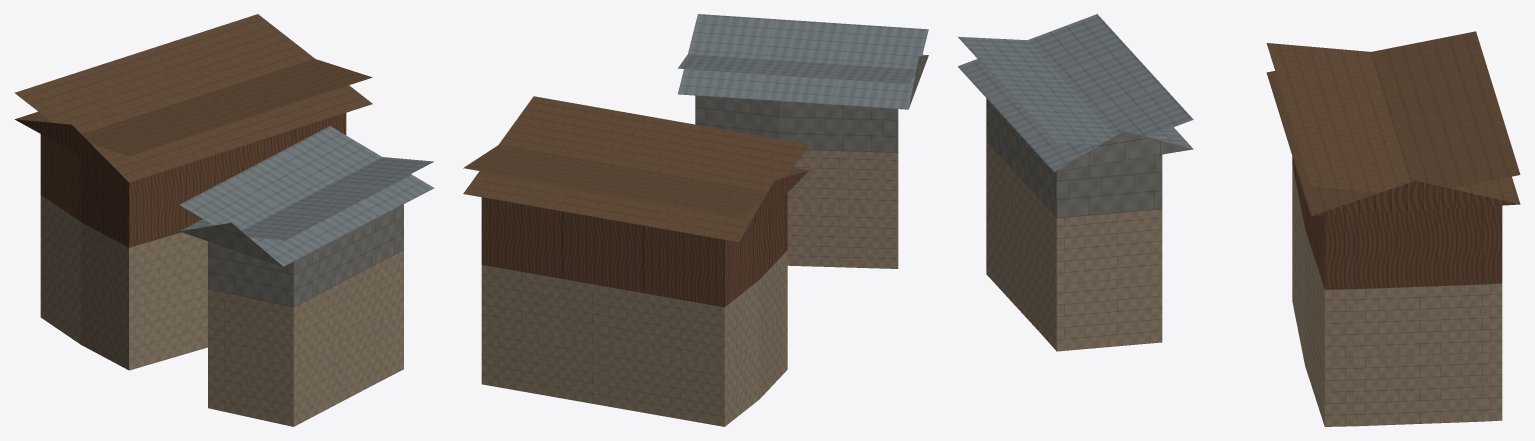
The model's file is bld_c33_46_236.gltf.
3 renders of one model, left to right at view 1: azimuth 30°, elevation 25°; view 2: azimuth 150°, elevation 25°; view 3: azimuth 270°, elevation 25°, orthographic. The views are drawn at different scales.
Visible parts, largest first — view 1: bld_c33_46_236; view 2: bld_c33_46_236; view 3: bld_c33_46_236.
Boxes of the visible parts, x1,y1,x2,y2 form: bld_c33_46_236: (14,14,434,426); bld_c33_46_236: (463,14,928,426); bld_c33_46_236: (958,14,1520,426).
Bounding box in the file's own units: 11.42 × 9 × 17.24.
Materials: 7 (7 with a texture image).
